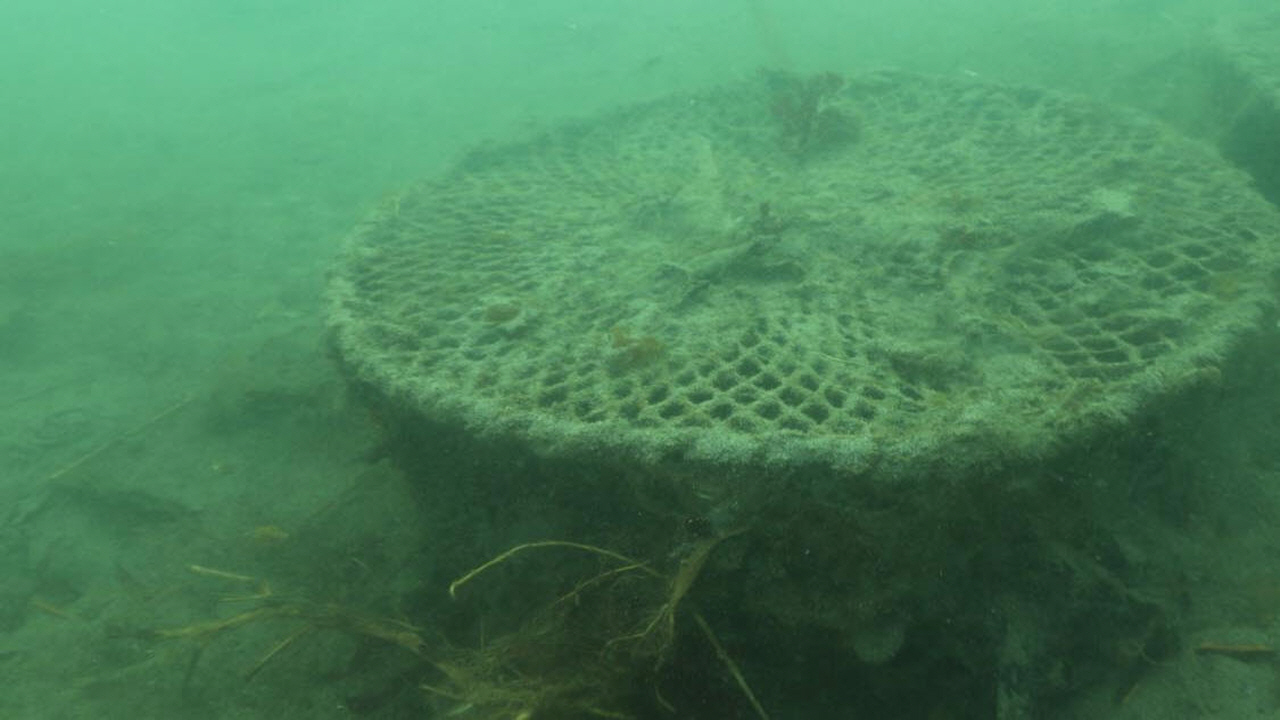circular fish trap: (324, 70, 1280, 469)
